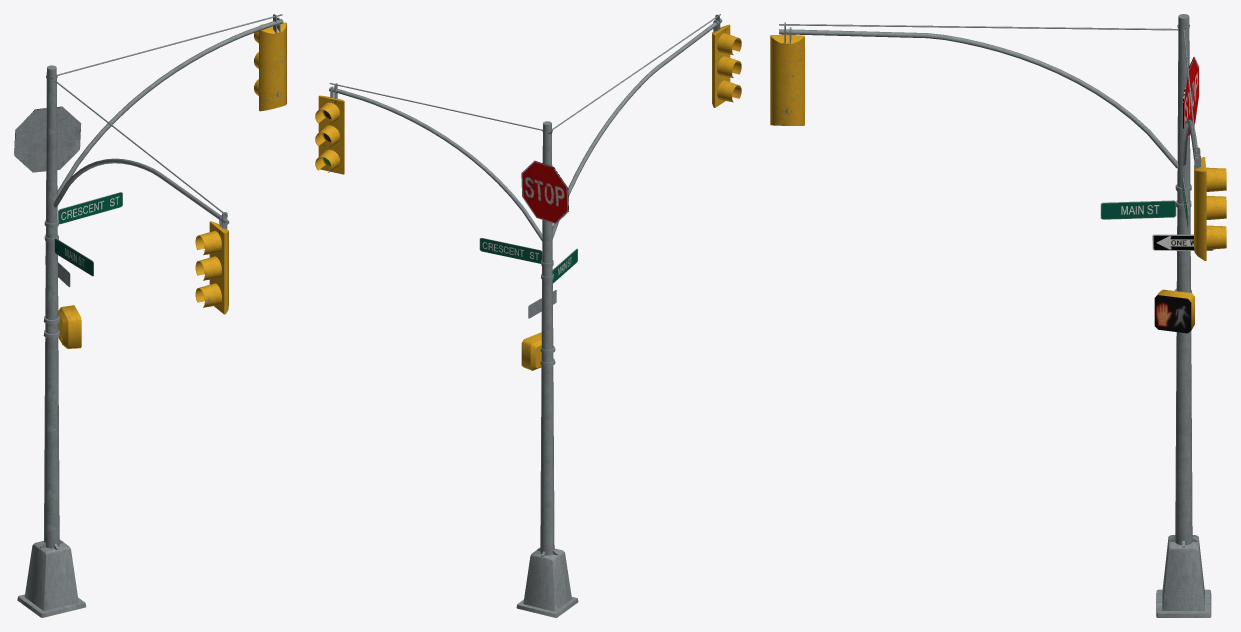
The model's file is syj_zxludeng02.fbx.
3 renders of one model, left to right at view 1: azimuth 30°, elevation 25°; view 2: azimuth 150°, elevation 25°; view 3: azimuth 270°, elevation 25°, orthographic. The views are drawn at different scales.
Visible parts, largest first — view 1: syj_zxludeng02; view 2: syj_zxludeng02; view 3: syj_zxludeng02.
Boxes of the visible parts, x1,y1,x2,y2 form: syj_zxludeng02: (14, 14, 286, 617); syj_zxludeng02: (315, 14, 741, 617); syj_zxludeng02: (770, 14, 1226, 617).
Bounding box in the file's own units: 384 × 713 × 500.
